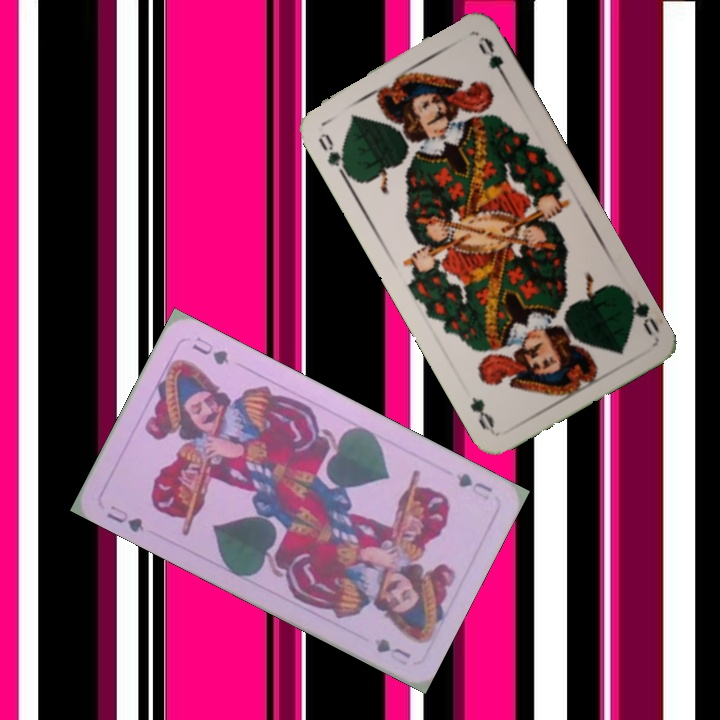GO: (620, 287, 662, 338), (314, 128, 352, 181)
GU: (452, 468, 496, 503), (102, 501, 147, 535)
